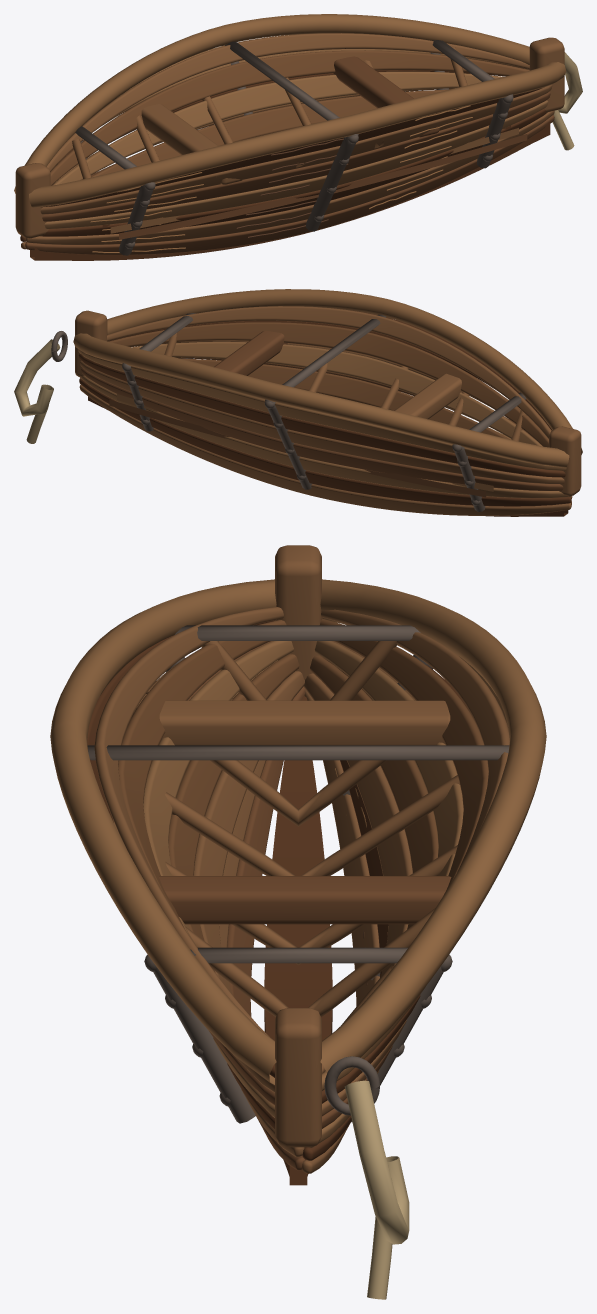
File: barco_medieval.glb
The picture shows the model from 3 angles, top to bottom: view 1: azimuth 30°, elevation 25°; view 2: azimuth 150°, elevation 25°; view 3: azimuth 270°, elevation 25°; orthographic projection. The views are drawn at different scales.
Visible parts, largest first — view 1: Barco Medieval; view 2: Barco Medieval; view 3: Barco Medieval.
Part boxes in pixels (x1,y1,x2,y2): Barco Medieval: (14, 14, 582, 260); Barco Medieval: (14, 289, 582, 516); Barco Medieval: (50, 545, 546, 1299).
Bounding box in the file's own units: 2.56 × 0.6967 × 1.02.
